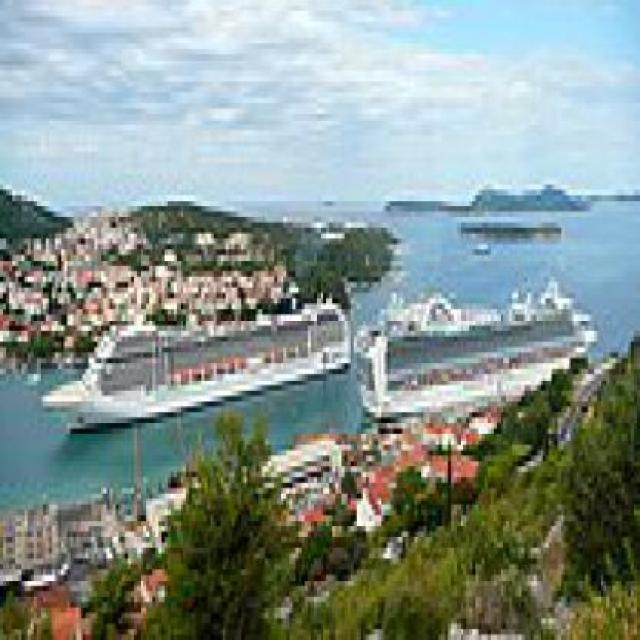cruise: (32, 267, 364, 436), (349, 261, 610, 435)
